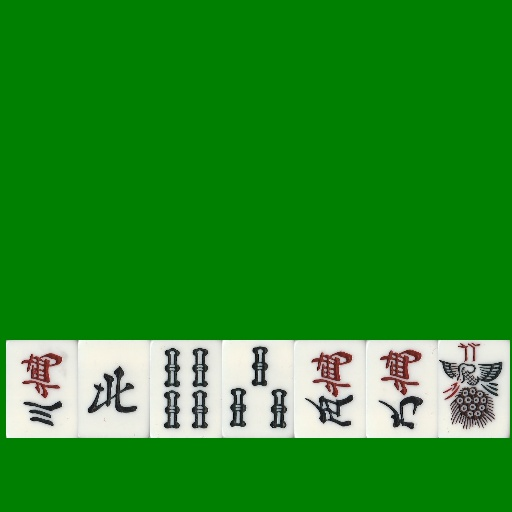1s: (438, 340, 510, 438)
3m: (6, 340, 78, 438)
3s: (222, 340, 294, 438)
4s: (150, 340, 222, 438)
5m: (294, 340, 366, 438)
9m: (366, 340, 438, 438)
north: (78, 340, 150, 438)
